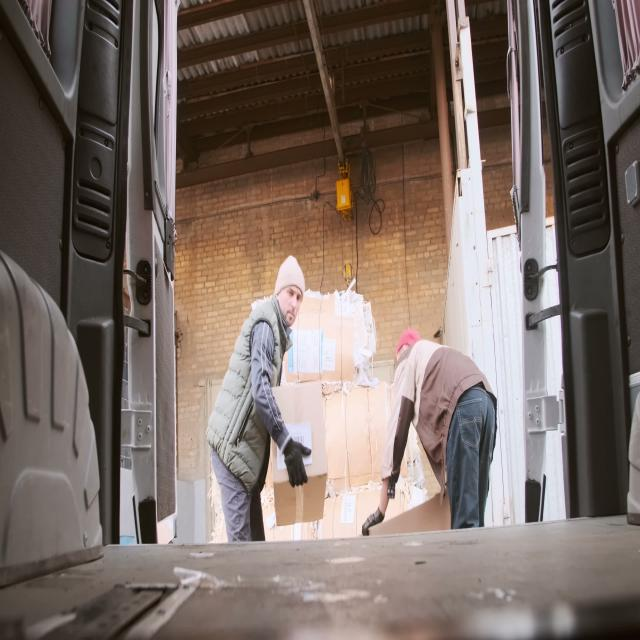counting-the-number-of-boxes: (270, 381, 328, 526), (368, 488, 451, 536)
